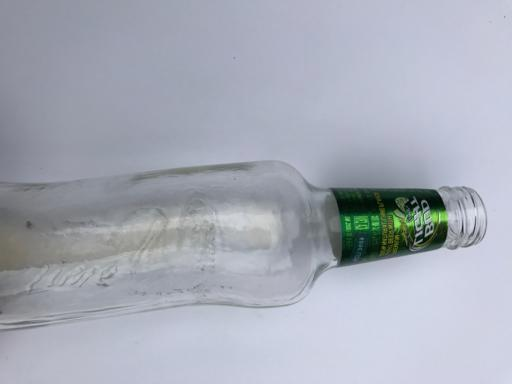glass: (0, 156, 488, 340)
